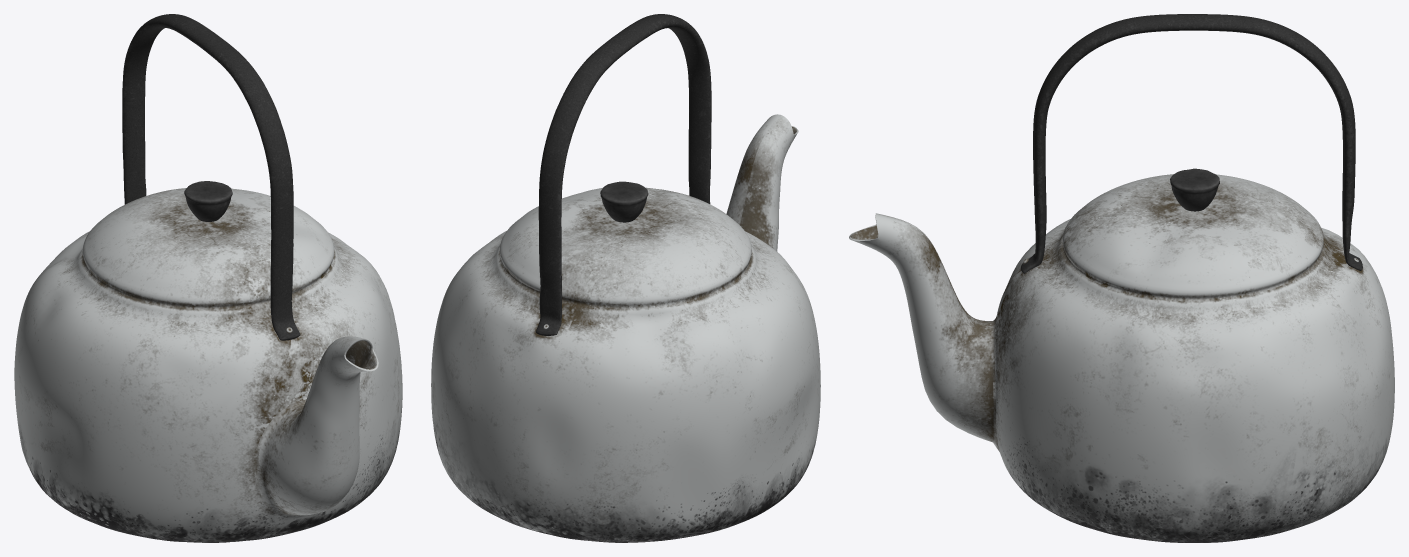
The model's file is teapot.glb.
3 views of the same model, side by side, from view 1: azimuth 30°, elevation 25°; view 2: azimuth 150°, elevation 25°; view 3: azimuth 270°, elevation 25° (orthographic). The views are drawn at different scales.
Visible parts, largest first — view 1: pava_low_UV:pava6_1; view 2: pava_low_UV:pava6_1; view 3: pava_low_UV:pava6_1.
Boxes of the visible parts, x1=… form: pava_low_UV:pava6_1: x1=14, y1=14, x2=402, y2=542; pava_low_UV:pava6_1: x1=431, y1=14, x2=820, y2=542; pava_low_UV:pava6_1: x1=849, y1=14, x2=1394, y2=542.
Size of the model in its own units: 0.0253 by 0.0326 by 0.0344.
Materials: 1 (1 with a texture image).
